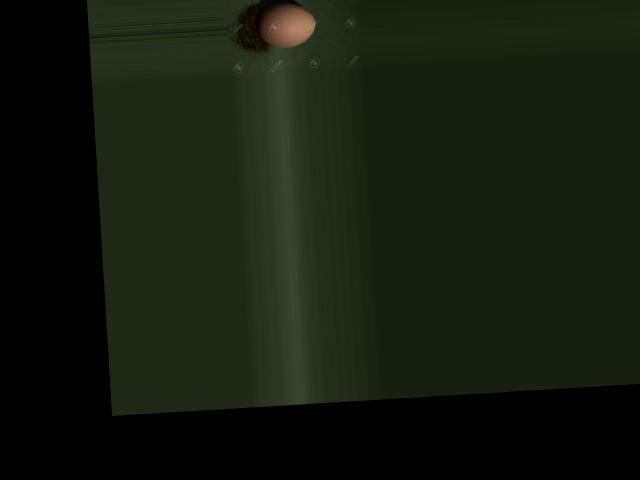egg: (256, 1, 317, 48)
